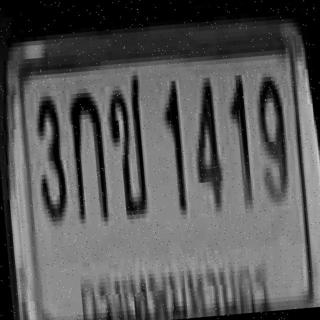A01: (67, 87, 107, 219)
A10: (104, 71, 148, 216)
N01: (225, 70, 251, 206), (160, 76, 186, 211)
N03: (31, 90, 68, 218)
N04: (188, 73, 224, 208)
N09: (253, 71, 290, 199)
P04: (72, 246, 273, 320)
